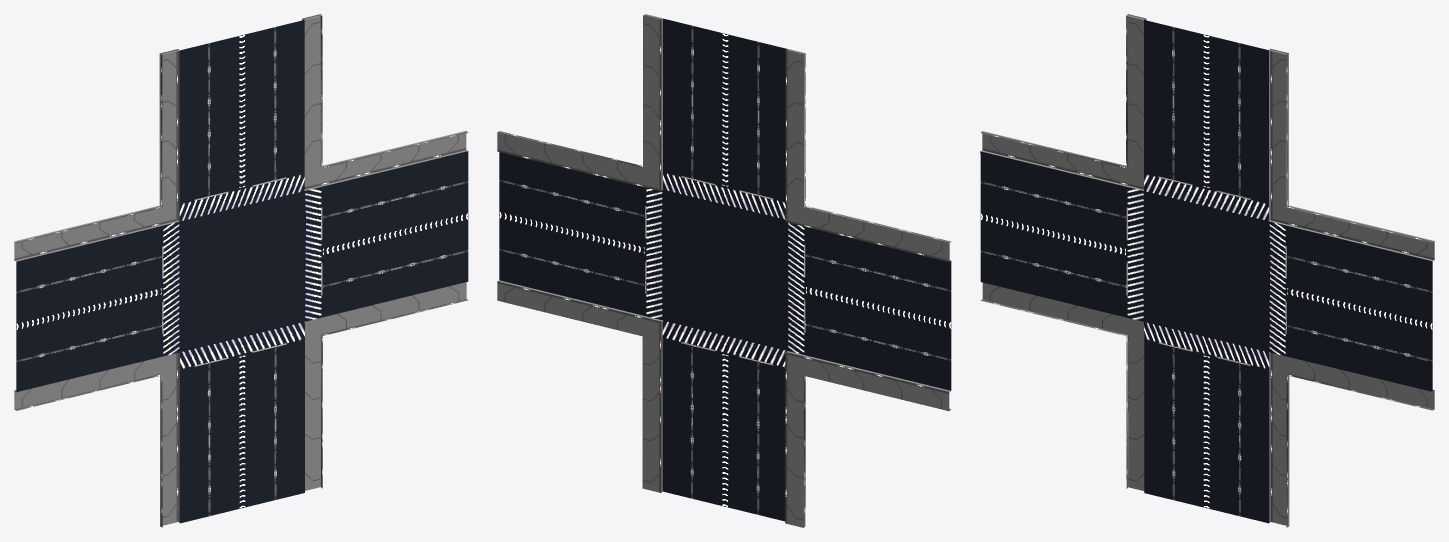
File: SM_L_Xroad.fbx
3 renders of one model, left to right at view 1: azimuth 30°, elevation 25°; view 2: azimuth 150°, elevation 25°; view 3: azimuth 330°, elevation 25°, orthographic.
Visible parts, largest first — view 1: SM_L_Xroad; view 2: SM_L_Xroad; view 3: SM_L_Xroad.
Part boxes in pixels (x1,y1,x2,y2): SM_L_Xroad: [14, 14, 468, 527]; SM_L_Xroad: [497, 14, 951, 527]; SM_L_Xroad: [980, 14, 1434, 527].
Bounding box in the file's own units: 14056 × 14056 × 119.
